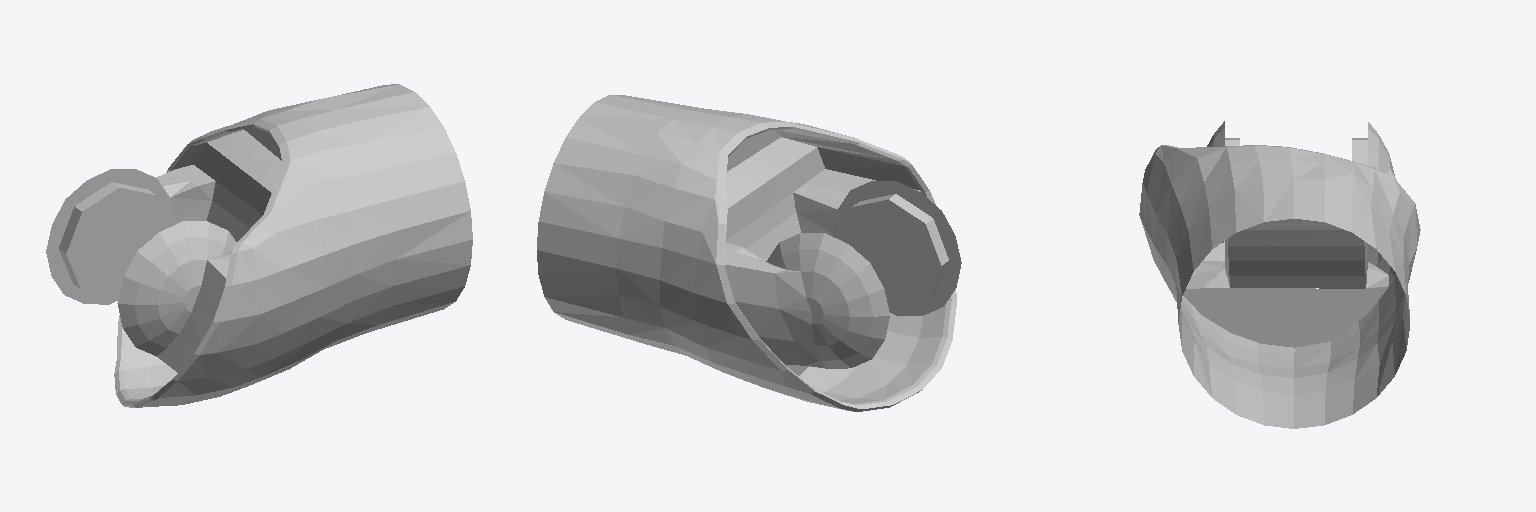
Rendered from RElbowRoll.obj.
The picture shows the model from 3 angles: view 1: azimuth 30°, elevation 25°; view 2: azimuth 150°, elevation 25°; view 3: azimuth 270°, elevation 25°; orthographic projection.
Parts seen in each view (by area): view 1: root; view 2: root; view 3: root.
Boxes of the visible parts, box(x1,y1,x2,y2) form: root: box(46, 84, 472, 407); root: box(537, 95, 961, 411); root: box(1139, 121, 1420, 428).
Bounding box in the file's own units: 70.06 × 48.73 × 51.39.